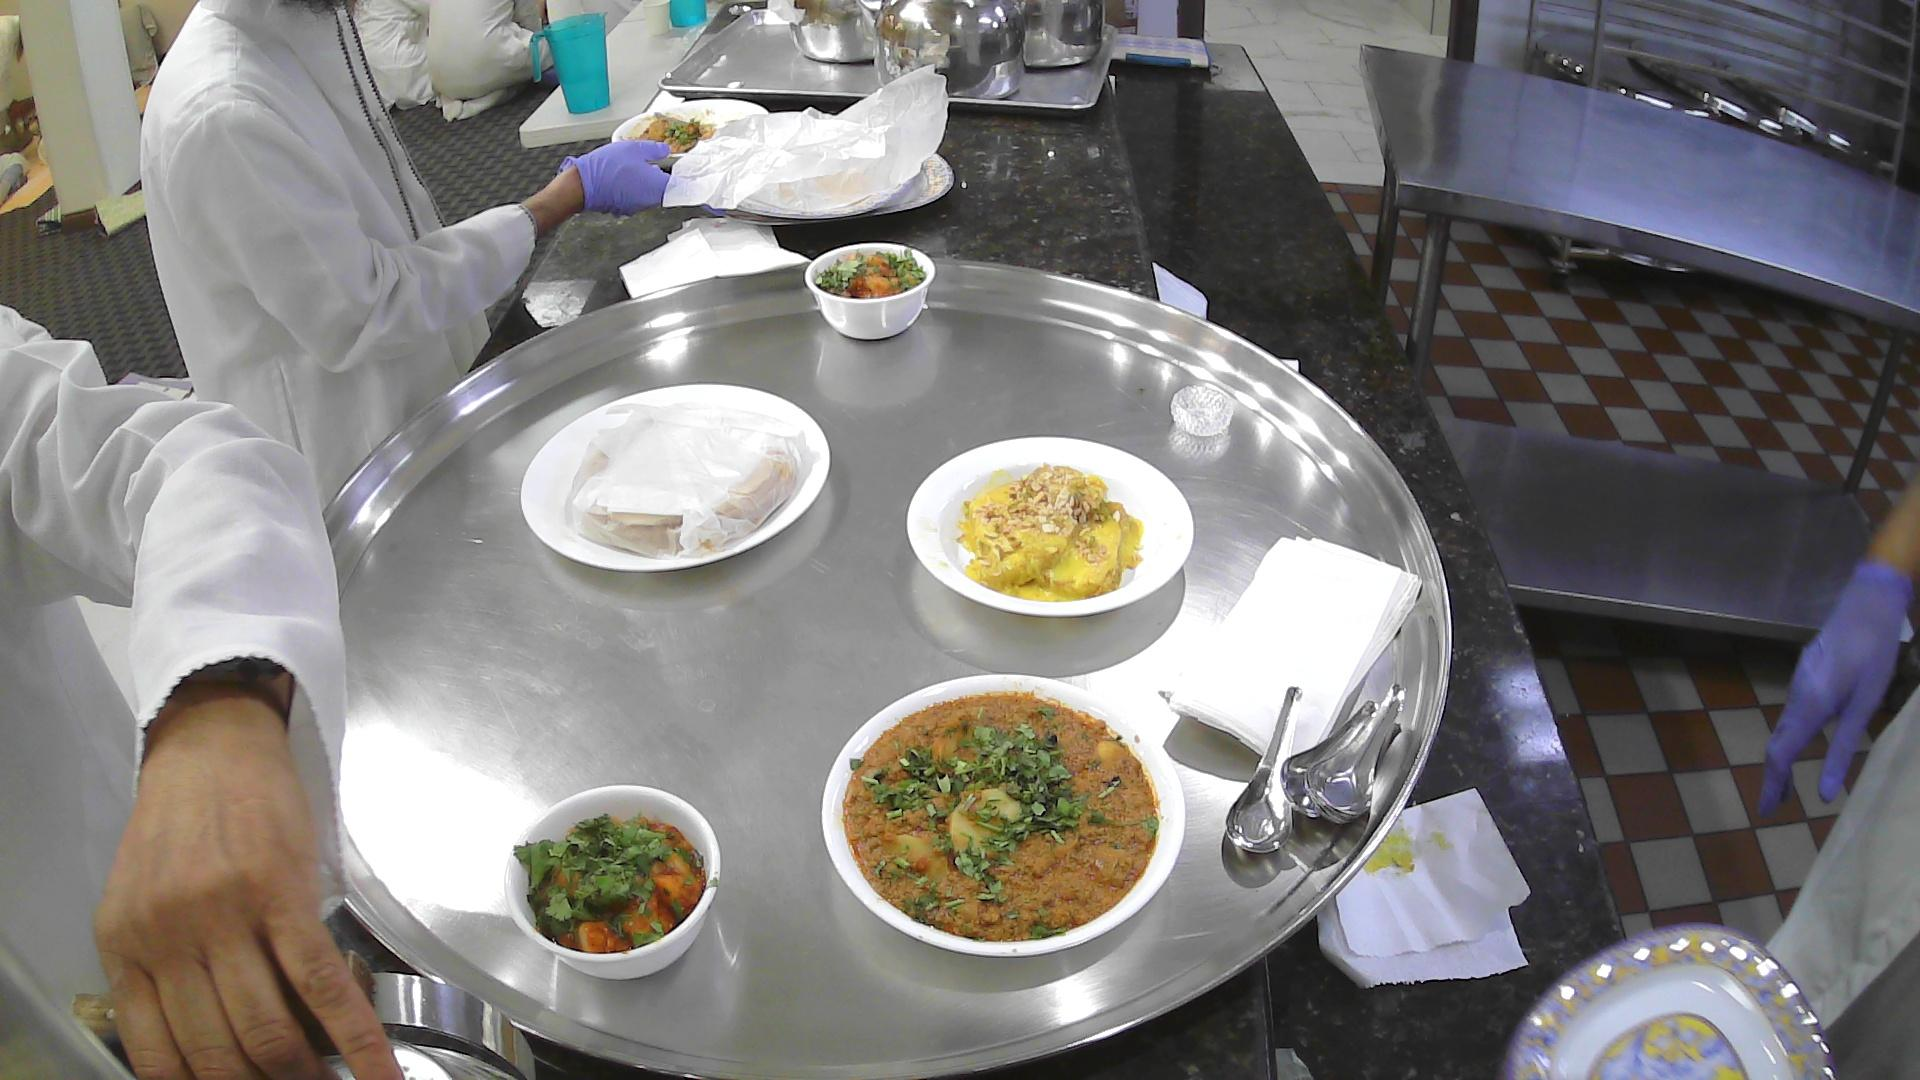thaal: (276, 252, 1458, 1080)
